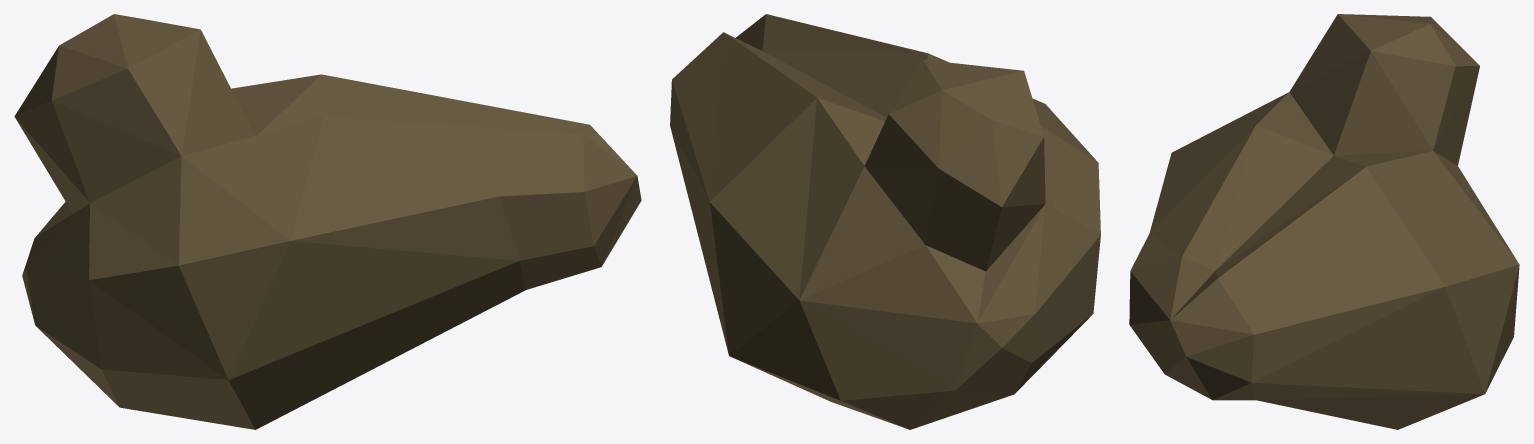
File: cox_m_r.dae
3 renders of one model, left to right at view 1: azimuth 30°, elevation 25°; view 2: azimuth 150°, elevation 25°; view 3: azimuth 270°, elevation 25°, orthographic. The views are drawn at different scales.
Parts seen in each view (by area): view 1: ant-cox-middle-right; view 2: ant-cox-middle-right; view 3: ant-cox-middle-right.
Boxes of the visible parts, x1,y1,x2,y2 form: ant-cox-middle-right: [14, 14, 641, 429]; ant-cox-middle-right: [670, 14, 1100, 429]; ant-cox-middle-right: [1129, 14, 1519, 429].
Size of the model in its own units: 2.31 by 1.76 by 1.72.
